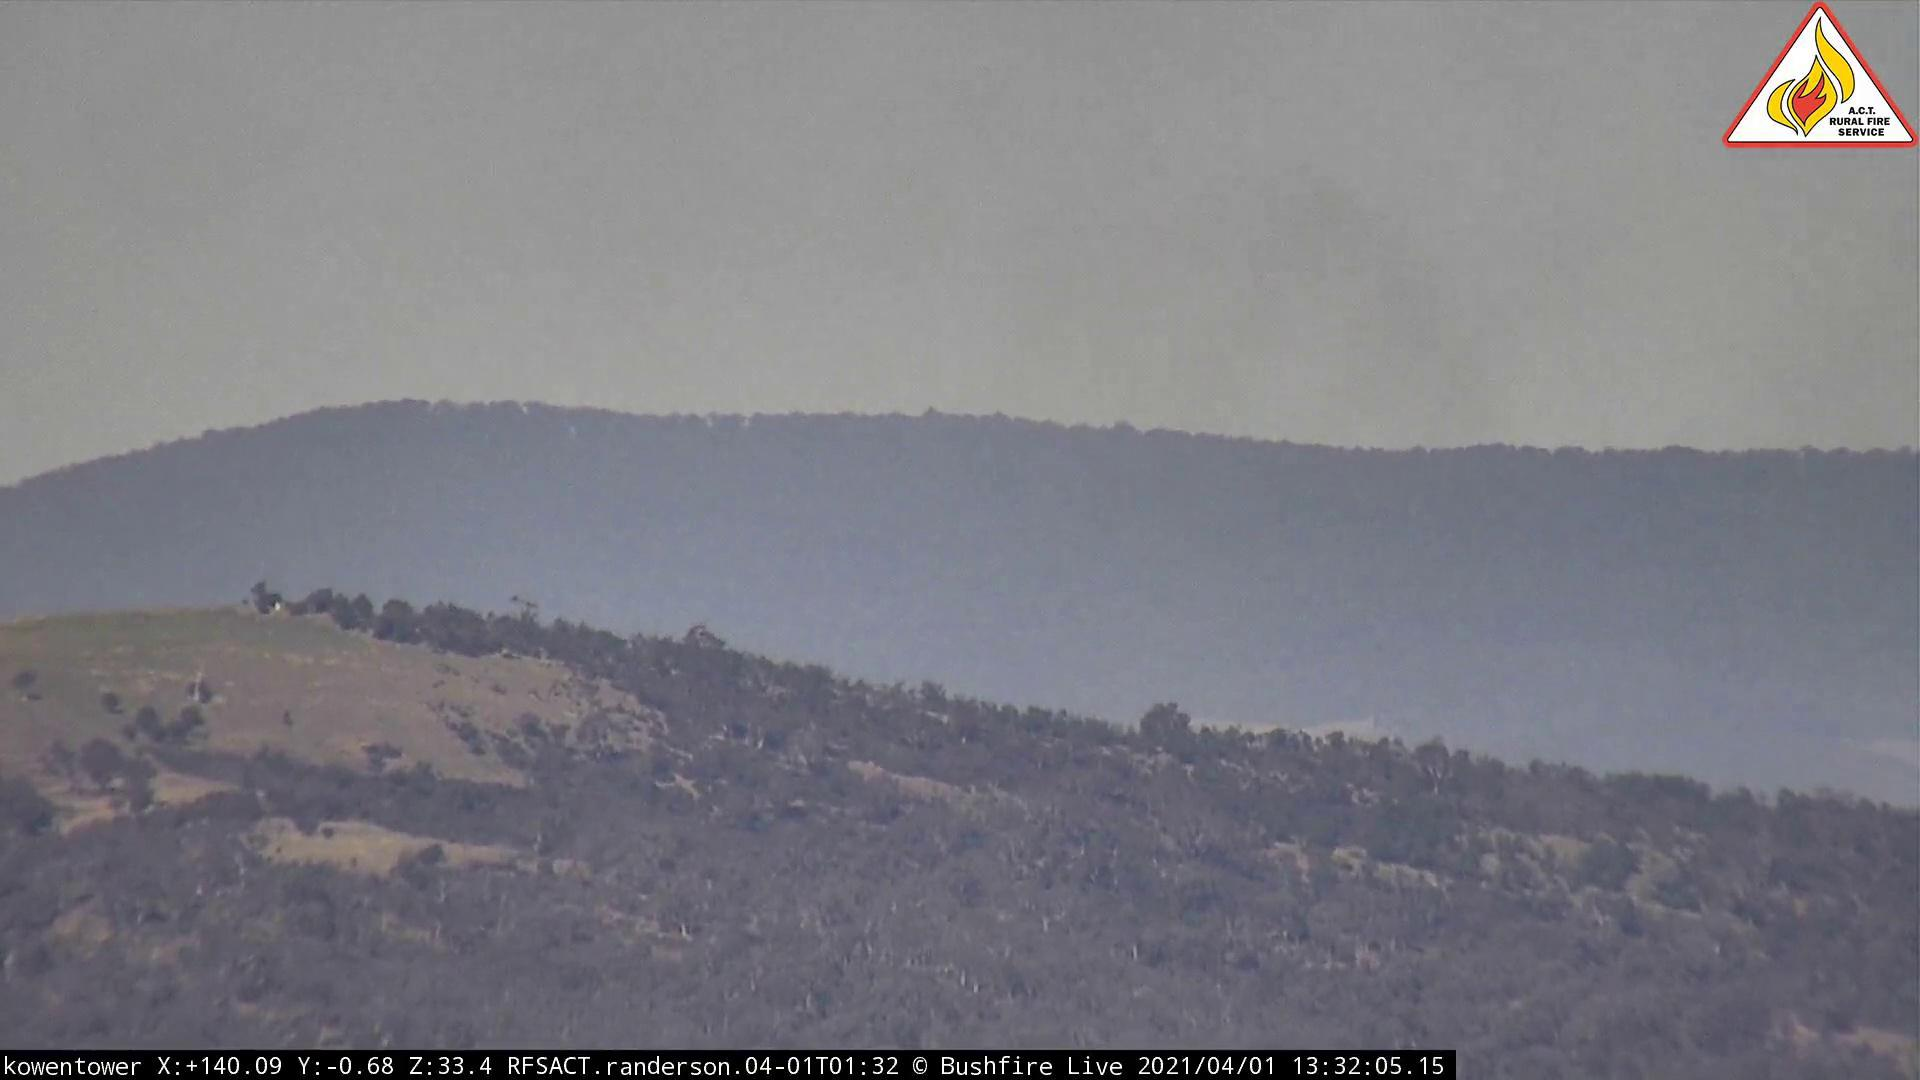instance_salient_object: (1059, 171, 1532, 574)
